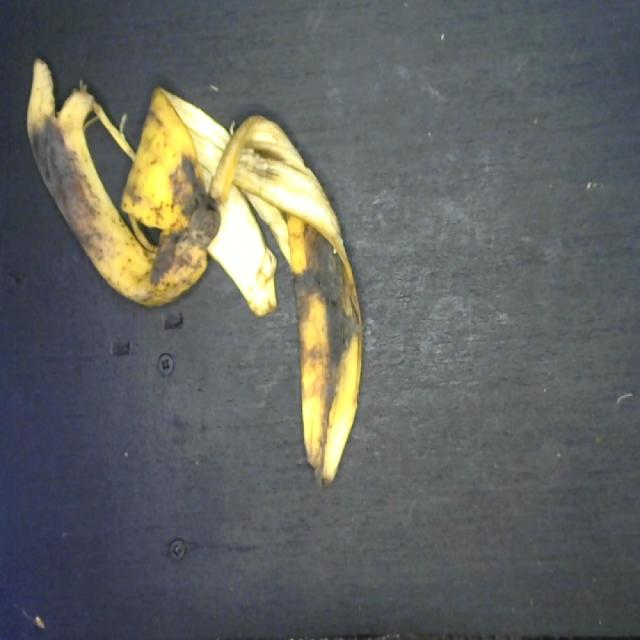biodegradable: (19, 50, 371, 493)
